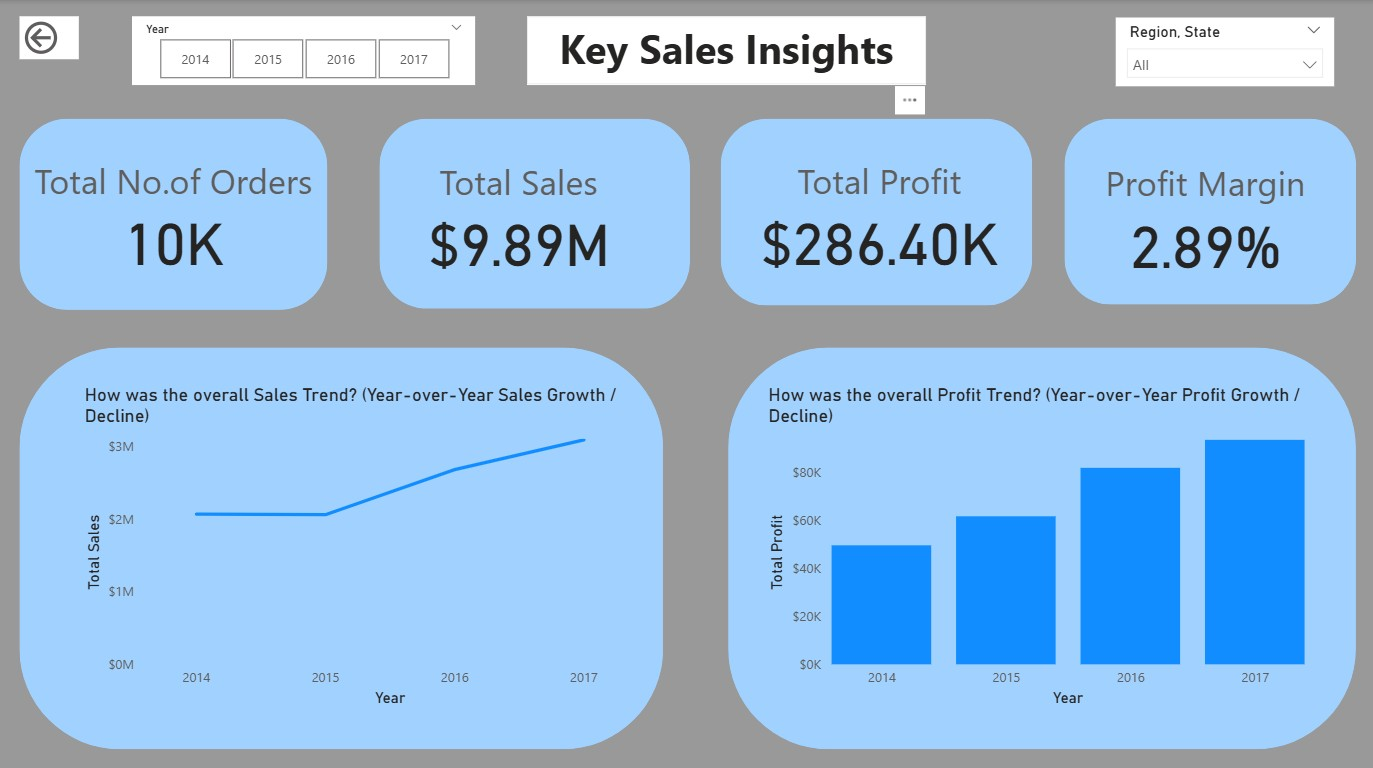

This screenshot's page, from the dashboard's own definition file:
{"tool":"powerbi","page":{"name":"Key Sales Insight","canvas":[1280,720],"ordinal":1},"visuals":[{"type":"shape","box":[992.7,111,271.2,172.8],"z":0,"group":"g2"},{"type":"shape","box":[680,323.8,583.8,373.8],"z":0},{"type":"shape","box":[673.6,111,289.8,173.8],"z":1000,"group":"g1"},{"type":"shape","box":[21.2,323.8,598.8,373.8],"z":1000},{"type":"lineChart","title":"How was the Sales Trend?","fields":{"Y":["_All Measures.Total Sales"],"Category":["Date Table (Order Date).Date.Variation.Date Hierarchy.Year","Date Table (Order Date).Date.Variation.Date Hierarchy.Quarter","Date Table (Order Date).Date.Variation.Date Hierarchy.Month"]},"box":[76.2,357.5,522.5,305],"z":2000},{"type":"columnChart","title":"How was the Profit Trend?","fields":{"Category":["Date Table (Order Date).Date.Variation.Date Hierarchy.Year","Date Table (Order Date).Date.Variation.Date Hierarchy.Quarter","Date Table (Order Date).Date.Variation.Date Hierarchy.Month"],"Y":["_All Measures.Total Profit"]},"box":[712.5,357.5,508.8,305],"z":3000},{"type":"shape","box":[21.4,111,286.3,177.8],"z":4000,"group":"g4"},{"type":"shape","box":[356.3,111,288.8,176.6],"z":4000,"group":"g3"},{"type":"group","id":"g1","title":"Group 2","box":[673.6,111,290.1,172.8],"z":4000},{"type":"cardVisual","fields":{"Data":["_All Measures.Total Profit"]},"box":[691.6,129.4,258.2,139.9],"z":4000,"group":"g1"},{"type":"group","id":"g2","title":"Group 3","box":[992.7,111,271.2,172.8],"z":5000},{"type":"cardVisual","fields":{"Data":["_All Measures.Profit Margin"]},"box":[1003.9,131.6,239.6,136.5],"z":5000,"group":"g2"},{"type":"group","id":"g3","title":"Group 1","box":[341.8,111,302.7,176.6],"z":6000},{"type":"cardVisual","fields":{"Data":["_All Measures.Total No.of  Orders"]},"box":[16.4,129.9,296.4,142.5],"z":6000,"group":"g4"},{"type":"cardVisual","fields":{"Data":["_All Measures.Total Sales"]},"box":[341.8,131,288,142],"z":6000,"group":"g3"},{"type":"textbox","box":[493.2,15.1,370.8,64.3],"z":7000},{"type":"actionButton","box":[21.1,15.6,55.6,40],"z":8000},{"type":"slicer","fields":{"Values":["Customer Table.Region","Customer Table.State"]},"box":[1040.6,16.4,203.1,64.3],"z":9000},{"type":"slicer","fields":{"Values":["Date Table (Order Date).Year"]},"box":[126.1,15.1,319.1,64.3],"z":10000},{"type":"group","id":"g4","title":"Group 4","box":[16.4,111,296.4,177.8],"z":11000}]}

Visuals, with their boxes in screenshot pixels (x1, y1, x2, y2), scaled from the page's 1280x720 canvas onto the 1373x768 screenshot:
shape: 1065 118 1356 303
shape: 729 345 1356 744
shape: 723 118 1033 304
shape: 23 345 665 744
"How was the Sales Trend?" lineChart: 82 381 642 707
"How was the Profit Trend?" columnChart: 764 381 1310 707
shape: 23 118 330 308
shape: 382 118 692 307
"Group 2" group: 723 118 1034 303
cardVisual - _All Measures.Total Profit: 742 138 1019 287
"Group 3" group: 1065 118 1356 303
cardVisual - _All Measures.Profit Margin: 1077 140 1334 286
"Group 1" group: 367 118 691 307
cardVisual - _All Measures.Total No.of  Orders: 18 139 336 291
cardVisual - _All Measures.Total Sales: 367 140 676 291
textbox: 529 16 927 85
actionButton: 23 17 82 59
slicer - Customer Table.Region x Customer Table.State: 1116 17 1334 86
slicer - Date Table (Order Date).Year: 135 16 478 85
"Group 4" group: 18 118 336 308
